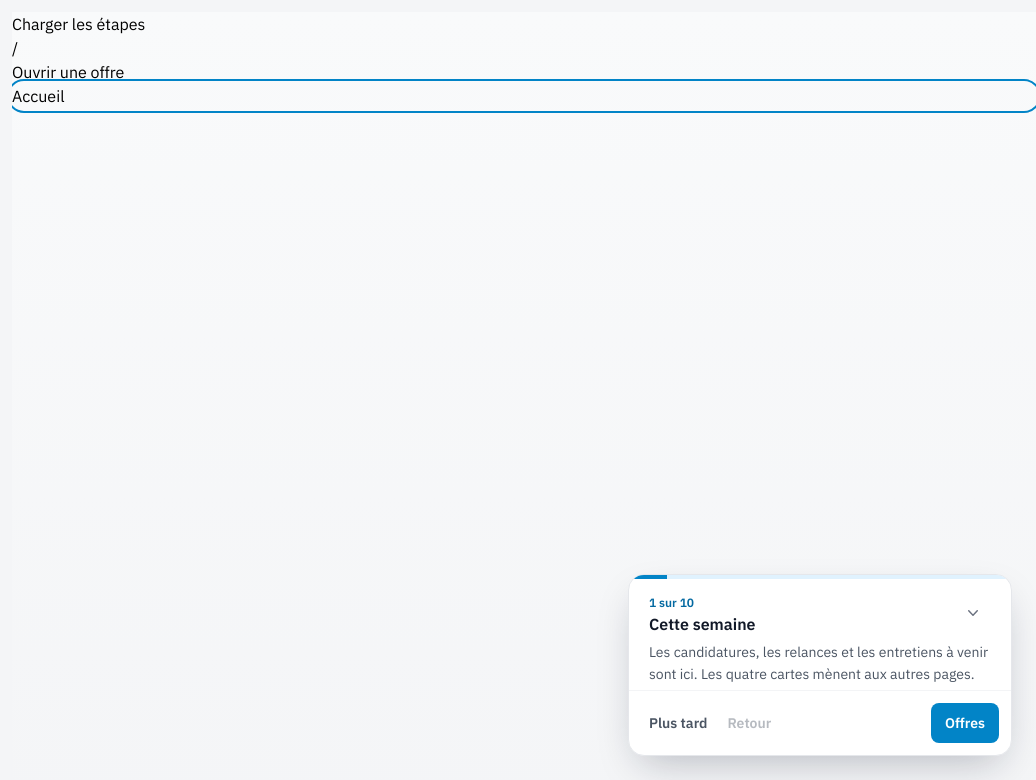
OnboardingTour › explique la fiche d’offre sans quitter le guide
What coordinates should you click on to do the following:
click the button "Offres"
I would click on:
 (965, 723)
Its box is x1=931 y1=703 x2=999 y2=743.
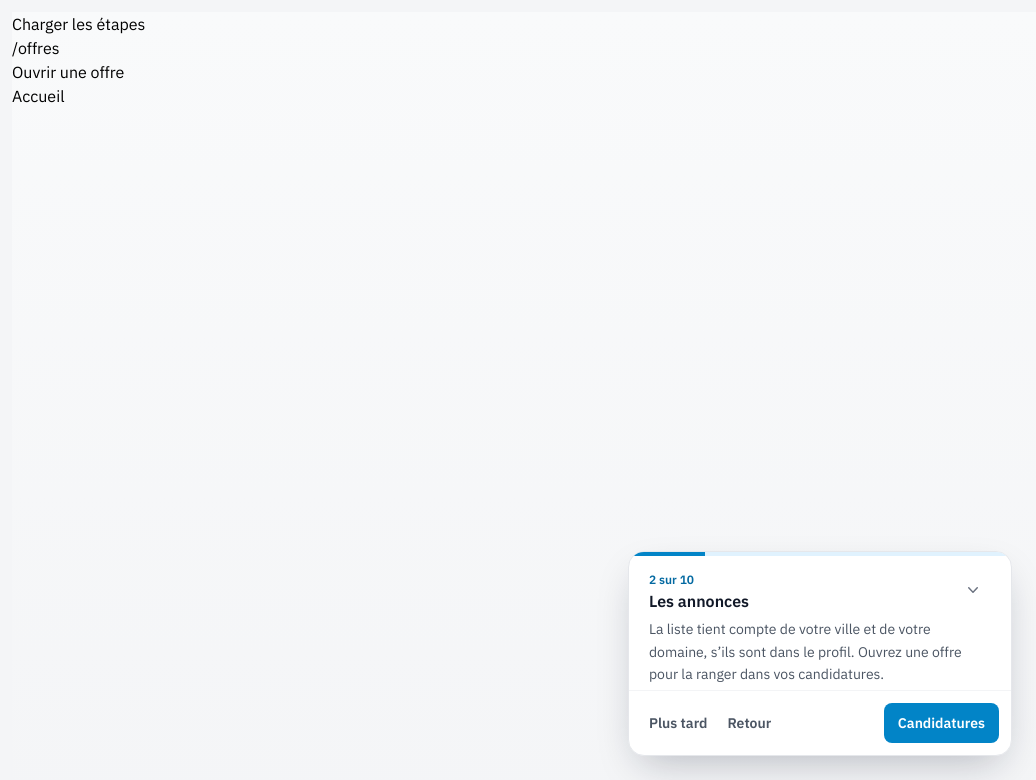
What coordinates should you click on to do the following:
click the link "Ouvrir une offre"
I would click on:
 (68, 72)
Its box is x1=12 y1=62 x2=124 y2=82.
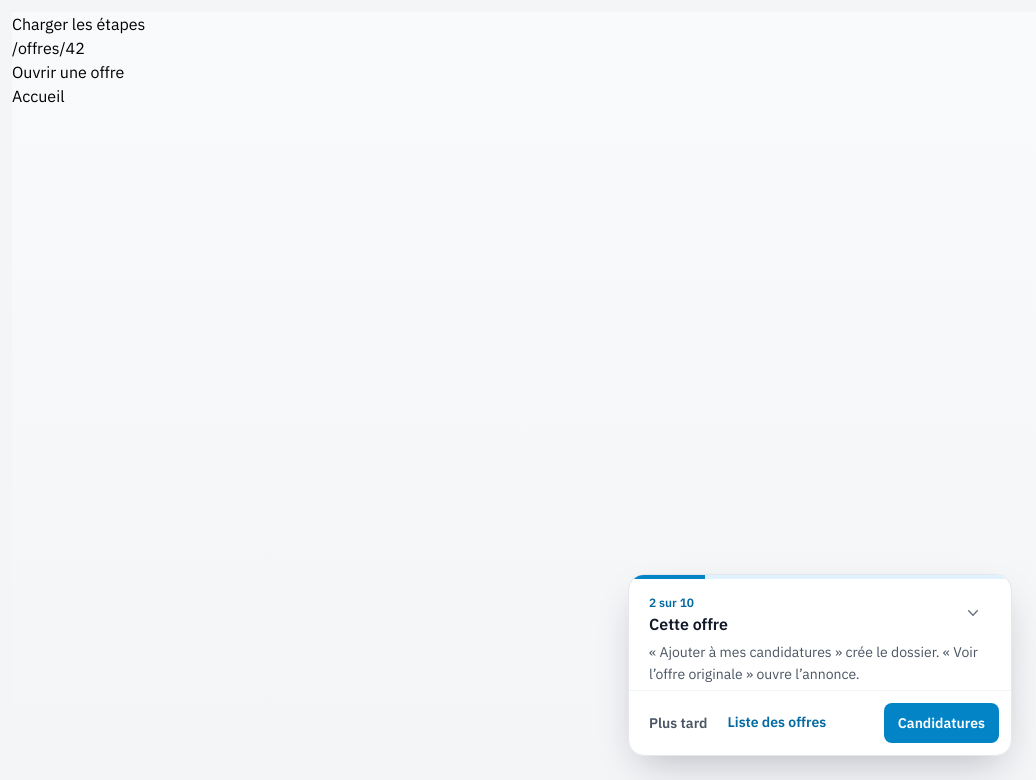
Now the text with test id "path" reads "/offres/42", box x1=12 y1=38 x2=85 y2=58
Now the heading "Cette offre" is shown, box x1=649 y1=612 x2=728 y2=634
What coordinates should you click on to do the following:
click the button "Liste des offres"
I would click on:
 (777, 723)
Its box is x1=720 y1=703 x2=834 y2=743.
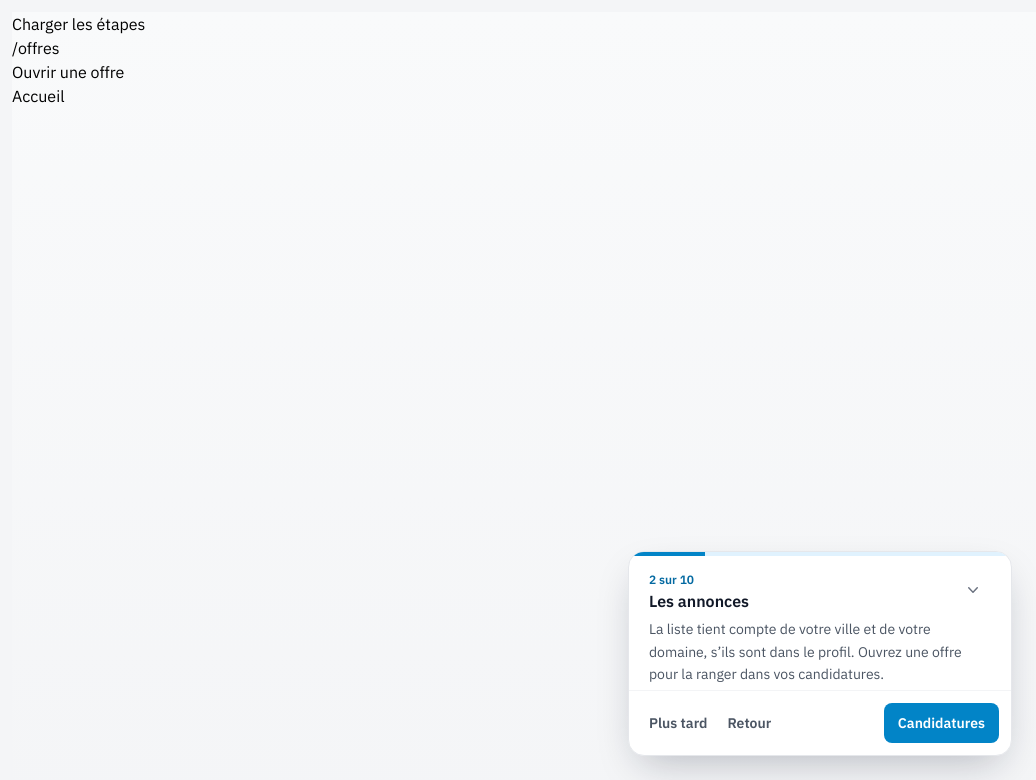
Expected: the text with test id "path" reads "/offres", x1=12 y1=38 x2=60 y2=58
Now the heading "Les annonces" is shown, box x1=649 y1=590 x2=749 y2=612
